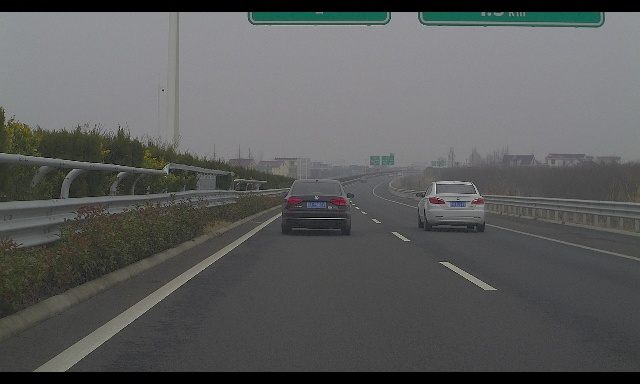car: (280, 178, 355, 235), (416, 181, 485, 232)
